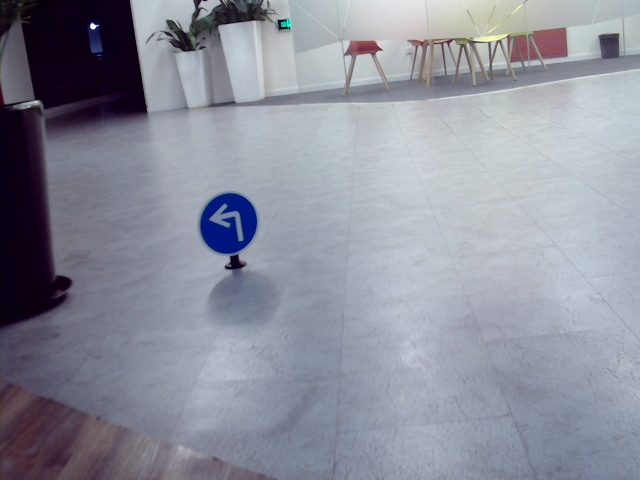turn_left: (210, 203, 243, 241)
